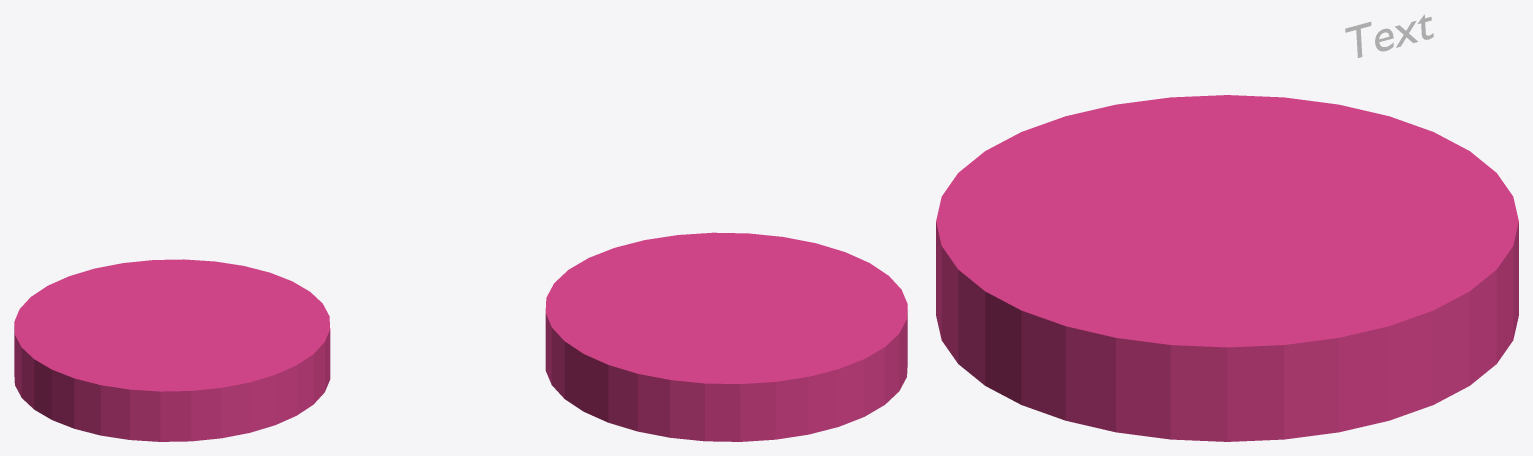
Rendered from map.glb.
The picture shows the model from 3 angles, left to right: view 1: azimuth 30°, elevation 25°; view 2: azimuth 150°, elevation 25°; view 3: azimuth 270°, elevation 25°; orthographic projection. The views are drawn at different scales.
Parts seen in each view (by area): view 1: mine; view 2: mine; view 3: mine, Text.
Boxes of the visible parts, left/top/right/bottom form: mine: left=14, top=259, right=330, bottom=441; mine: left=545, top=232, right=907, bottom=441; mine: left=936, top=95, right=1518, bottom=441; Text: left=1345, top=14, right=1433, bottom=57.
Size of what is drawn, in the model's own units: 15.77 by 10.78 by 11.18.
